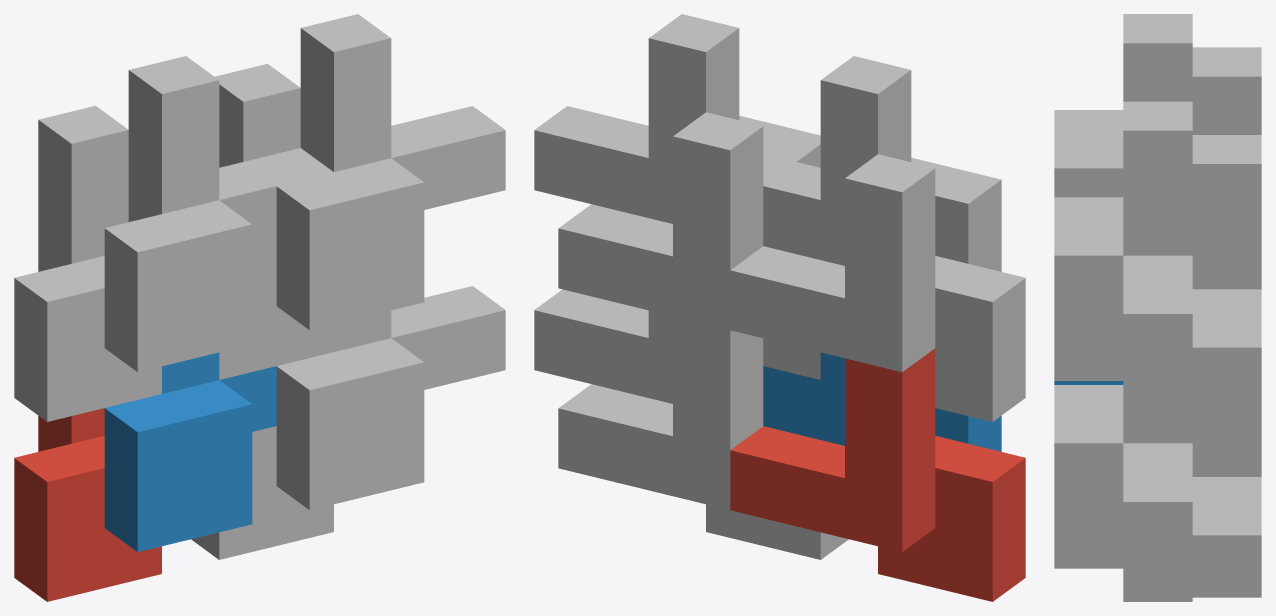
File: tiling.obj
The picture shows the model from 3 angles, left to right: view 1: azimuth 30°, elevation 25°; view 2: azimuth 150°, elevation 25°; view 3: azimuth 270°, elevation 25°; orthographic projection. The views are drawn at different scales.
Visible parts, largest first — view 1: copy_1_domain_8, copy_1_domain_4, copy_1_domain_6, copy_1_domain_3, copy_1_domain_2, copy_1_domain_1, copy_1_domain_7, copy_1_domain_5; view 2: copy_1_domain_1, copy_1_domain_3, copy_1_domain_7, copy_1_domain_5, copy_1_domain_8, copy_1_domain_4, copy_1_domain_6, copy_1_domain_2; view 3: copy_1_domain_8, copy_1_domain_6, copy_1_domain_7, copy_1_domain_5, copy_1_domain_4, copy_1_domain_3.
Boxes of the visible parts, x1,y1,x2,y2 form: copy_1_domain_8: (276, 14, 505, 330); copy_1_domain_4: (104, 56, 333, 372); copy_1_domain_6: (276, 286, 505, 510); copy_1_domain_3: (14, 105, 161, 421); copy_1_domain_2: (104, 352, 276, 551); copy_1_domain_1: (14, 408, 161, 601); copy_1_domain_7: (215, 64, 333, 379); copy_1_domain_5: (191, 426, 333, 559); copy_1_domain_1: (730, 348, 1025, 601); copy_1_domain_3: (730, 154, 1025, 421); copy_1_domain_7: (558, 112, 820, 379); copy_1_domain_5: (558, 316, 848, 559); copy_1_domain_8: (534, 14, 820, 223); copy_1_domain_4: (763, 56, 1001, 271); copy_1_domain_6: (534, 289, 672, 403); copy_1_domain_2: (763, 352, 1001, 451); copy_1_domain_8: (1054, 101, 1192, 380); copy_1_domain_6: (1054, 376, 1192, 568); copy_1_domain_7: (1192, 135, 1261, 409); copy_1_domain_5: (1123, 410, 1261, 601); copy_1_domain_4: (1054, 14, 1192, 197); copy_1_domain_3: (1192, 47, 1261, 134).
Size of the model in its own units: 8 by 8 by 3.
